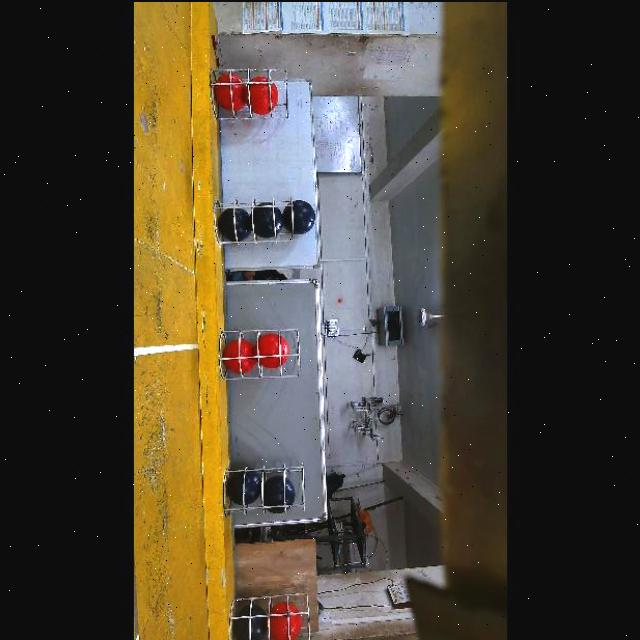P: (231, 605, 268, 640), (226, 470, 263, 505), (264, 474, 296, 512), (218, 205, 252, 239), (283, 199, 316, 233), (254, 200, 285, 235)
R: (244, 74, 279, 115), (255, 331, 290, 368), (270, 600, 302, 640), (213, 72, 246, 109), (224, 338, 256, 372)
S: (215, 461, 312, 509), (214, 322, 300, 376), (209, 70, 297, 119), (213, 197, 297, 247), (228, 590, 312, 640)
